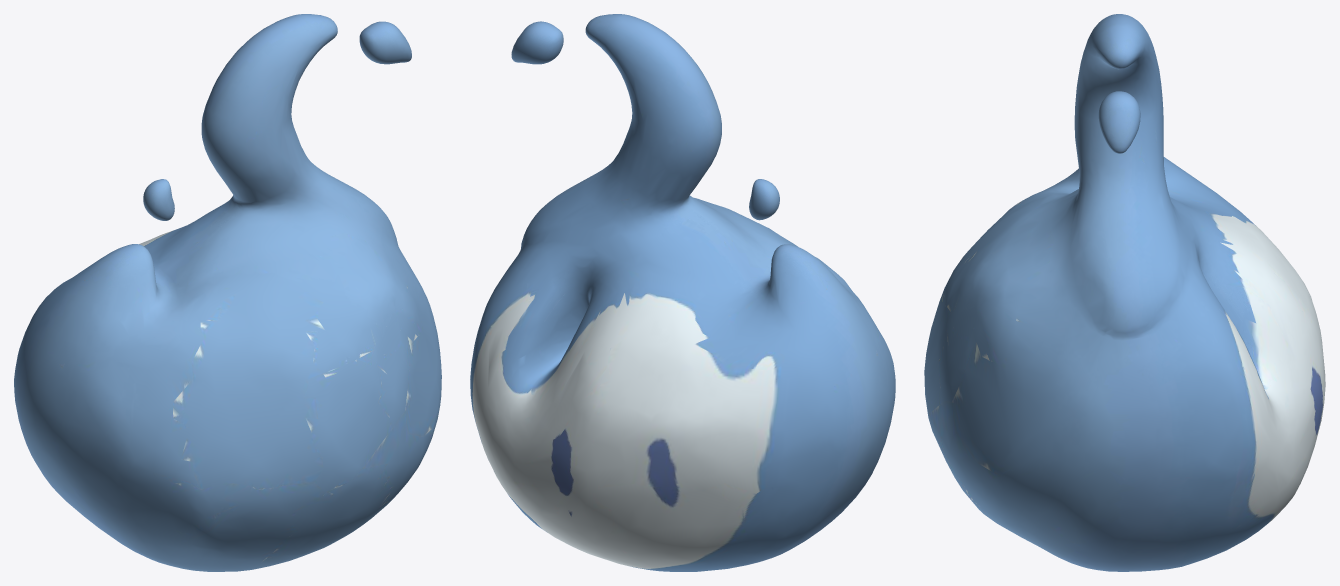
Rendered from naty.glb.
3 renders of one model, left to right at view 1: azimuth 30°, elevation 25°; view 2: azimuth 150°, elevation 25°; view 3: azimuth 270°, elevation 25°, orthographic. The views are drawn at different scales.
Parts seen in each view (by area): view 1: naty; view 2: naty; view 3: naty.
Boxes of the visible parts, x1,y1,x2,y2 form: naty: (14, 14, 441, 571); naty: (470, 14, 895, 571); naty: (924, 14, 1325, 571).
Bounding box in the file's own units: 2.15 × 2.81 × 1.85.
1 material, 1 textured.
